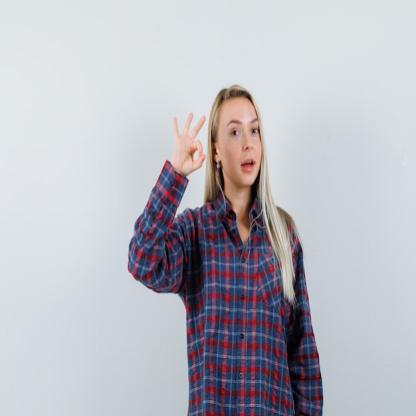ok: (170, 107, 208, 174)
